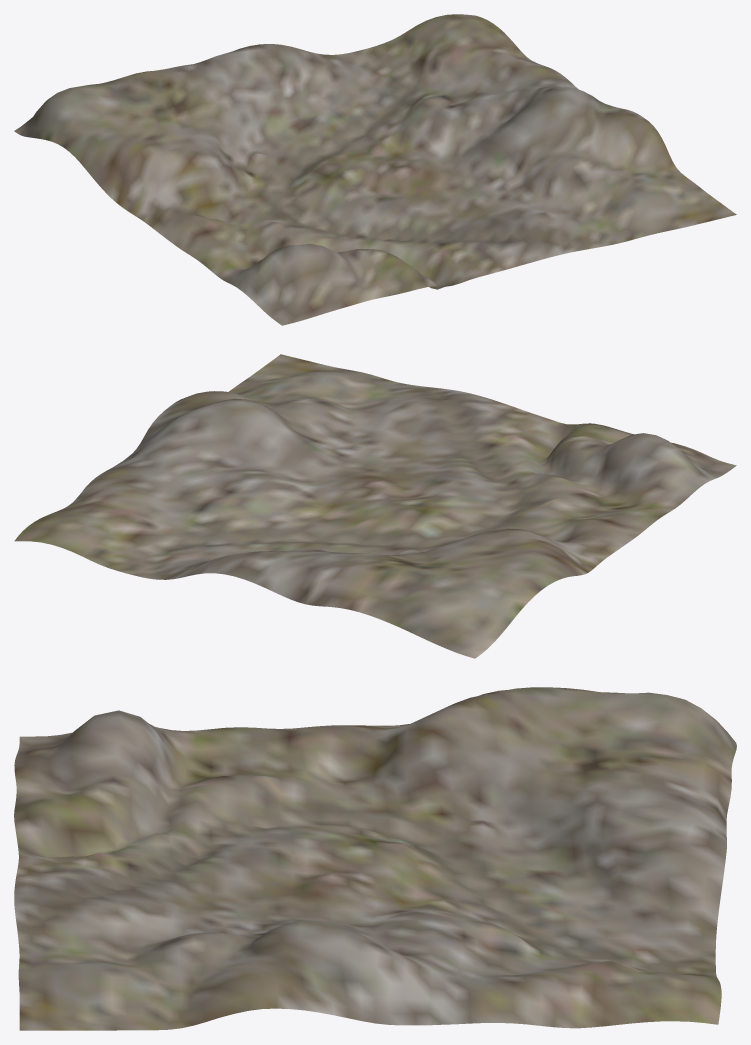
The model's file is terreno.glb.
3 views of the same model, one above another, from view 1: azimuth 30°, elevation 25°; view 2: azimuth 150°, elevation 25°; view 3: azimuth 270°, elevation 25° (orthographic). The views are drawn at different scales.
Parts seen in each view (by area): view 1: Plane.002; view 2: Plane.002; view 3: Plane.002.
Part boxes in pixels (box(x1,y1,x2,y2)): Plane.002: box(14, 14, 736, 325); Plane.002: box(14, 354, 736, 658); Plane.002: box(14, 687, 736, 1030).
Size of the model in its own units: 38.28 by 4.57 by 37.87.
